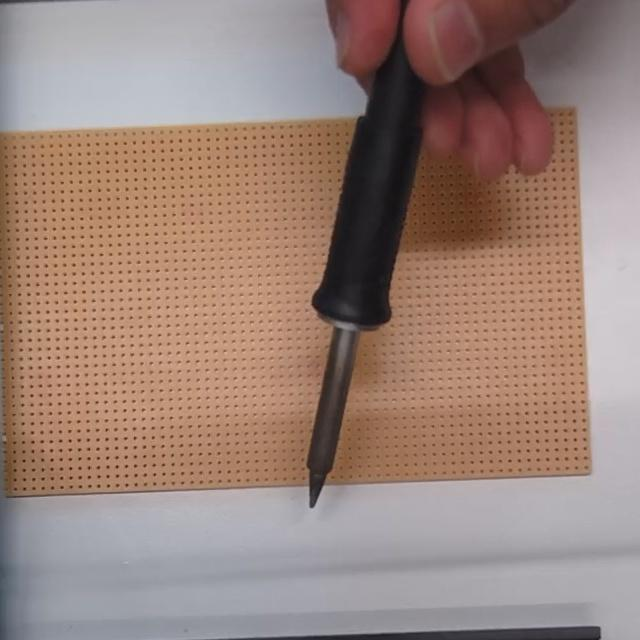Chip: (309, 18, 434, 511)
